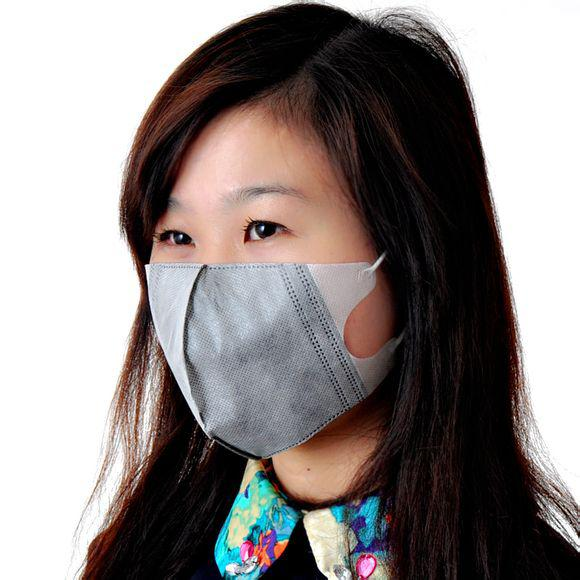OK: (137, 178, 396, 437)
